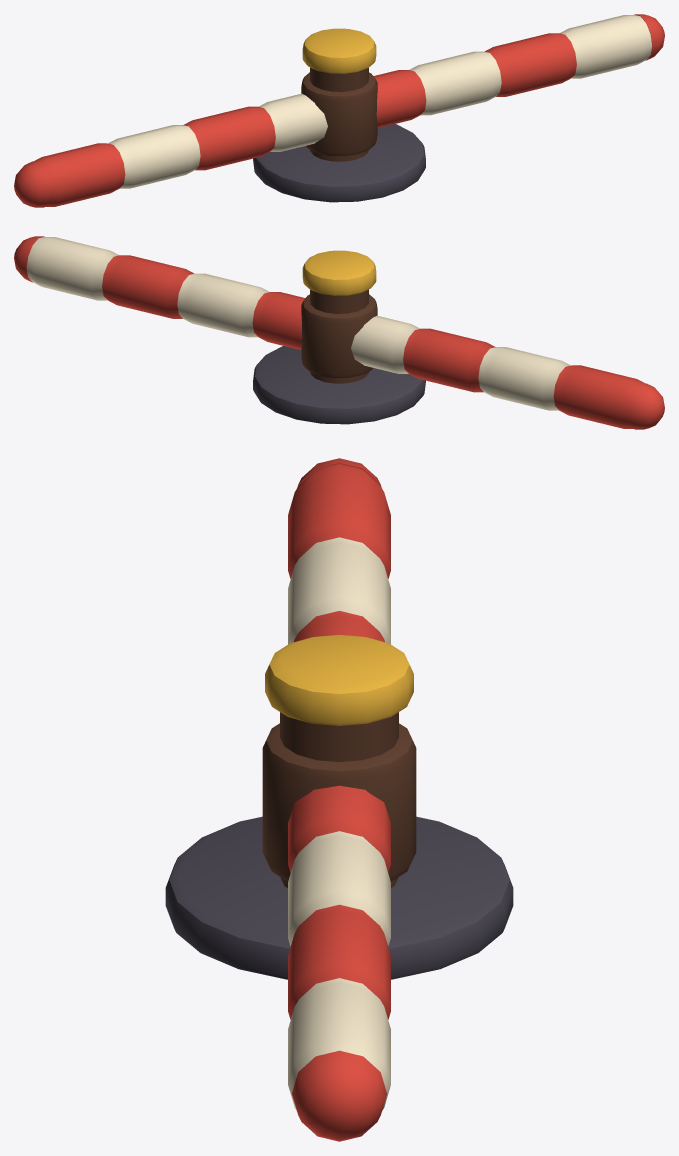
Rendered from spinner_bar.glb.
3 renders of one model, top to bottom at view 1: azimuth 30°, elevation 25°; view 2: azimuth 150°, elevation 25°; view 3: azimuth 270°, elevation 25°, orthographic. The views are drawn at different scales.
Visible parts, largest first — view 1: Bar, Post; view 2: Bar, Post; view 3: Bar, Post.
Boxes of the visible parts, x1,y1,x2,y2 form: Bar: (14, 14, 664, 207); Post: (253, 28, 425, 202); Bar: (14, 236, 664, 429); Post: (253, 250, 425, 424); Bar: (262, 458, 416, 1141); Post: (165, 634, 513, 979).
Bounding box in the file's own units: 6 × 1.12 × 1.4.
